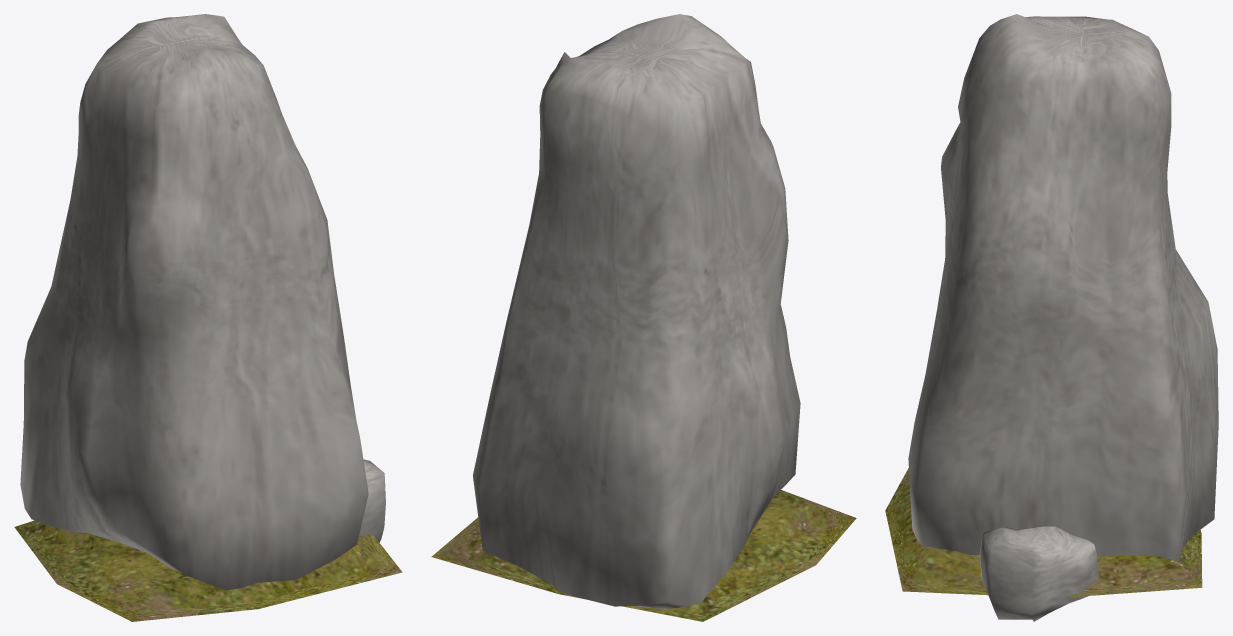
Rendered from rock_big.fbx.
3 views of the same model, side by side, from view 1: azimuth 30°, elevation 25°; view 2: azimuth 150°, elevation 25°; view 3: azimuth 270°, elevation 25° (orthographic). The views are drawn at different scales.
Visible parts, largest first — view 1: rock_big; view 2: rock_big; view 3: rock_big.
Part boxes in pixels (<box>): rock_big: <box>14,14,402,621</box>; rock_big: <box>431,14,856,621</box>; rock_big: <box>885,14,1218,621</box>.
Bounding box in the file's own units: 113 × 178 × 102.
Materials: 1 (1 with a texture image).
